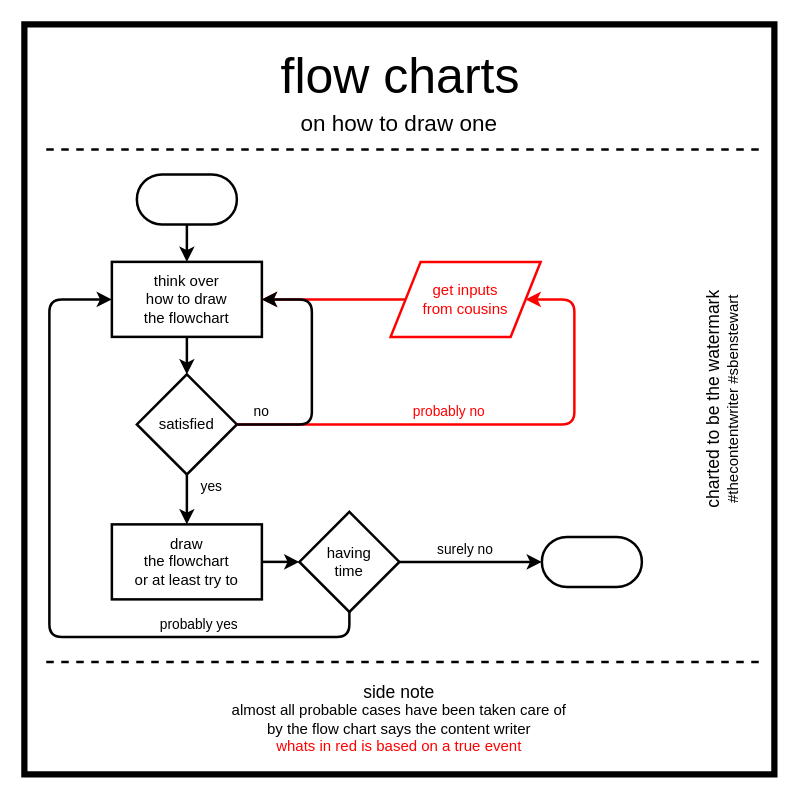
Some shapes in this 799 by 799 pixel diagram are drawn without their labels. The centre of each missing label's shape, as x and y in pixels:
end: the point at 591,561
start: the point at 186,198
